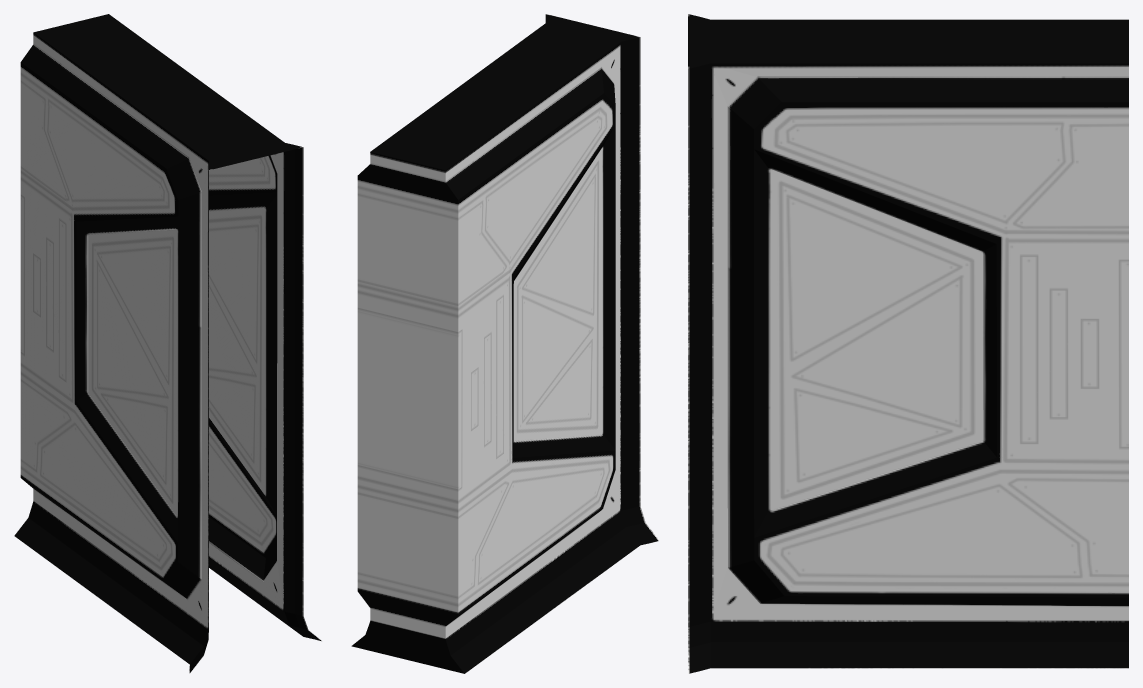
Rendered from Kleine_Muur2.fbx.
3 views of the same model, side by side, from view 1: azimuth 30°, elevation 25°; view 2: azimuth 150°, elevation 25°; view 3: azimuth 270°, elevation 25° (orthographic). The views are drawn at different scales.
Visible parts, largest first — view 1: Kleine_Muur2; view 2: Kleine_Muur2; view 3: Kleine_Muur2.
Boxes of the visible parts, x1=… form: Kleine_Muur2: x1=14, y1=14, x2=321, y2=673; Kleine_Muur2: x1=351, y1=14, x2=659, y2=673; Kleine_Muur2: x1=688, y1=14, x2=1128, y2=673.
Bounding box in the file's own units: 4.19 × 15 × 10.09.
